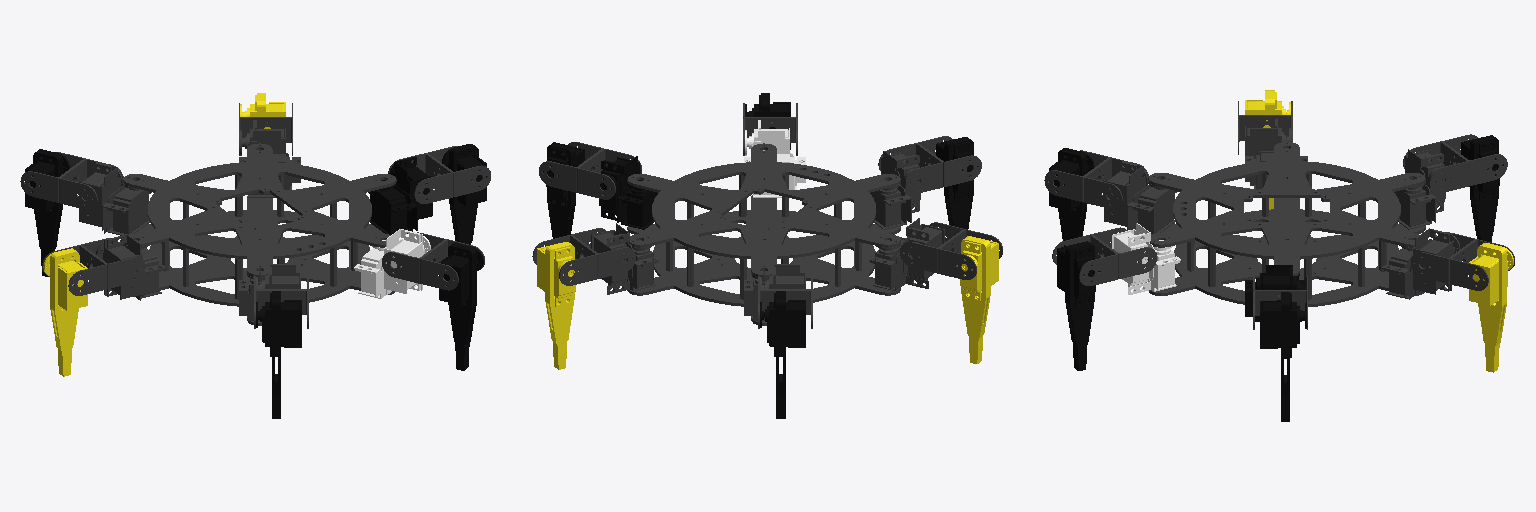
--- Render facts (derived) ---
The picture shows the robot from 3 angles, left to right: view 1: azimuth 30°, elevation 25°; view 2: azimuth 150°, elevation 25°; view 3: azimuth 270°, elevation 25°; orthographic projection.
Model hex_3dof3 with 19 links and 18 joints (18 revolute), rooted at base_link, posed every joint at zero.
Links seen in each view (by area): view 1: base_link, Pata1_Link1, Pata3_Link3, Pata6_Link3, Pata4_Link1, Pata5_Link3, Pata6_Link1, Pata1_Link2, Pata4_Link2, Pata6_Link2, Pata3_Link2, Pata1_Link3 (+7 smaller); view 2: base_link, Pata2_Link3, Pata3_Link3, Pata1_Link3, Pata5_Link2, Pata4_Link1, Pata4_Link2, Pata2_Link2, Pata3_Link2, Pata3_Link1, Pata5_Link1, Pata2_Link1 (+7 smaller); view 3: base_link, Pata5_Link1, Pata2_Link3, Pata6_Link3, Pata4_Link3, Pata1_Link2, Pata6_Link2, Pata2_Link1, Pata5_Link2, Pata1_Link1, Pata2_Link2, Pata6_Link1 (+7 smaller).
Boxes of the visible links, box(x1,y1,x2,y2) form: base_link: box(123, 143, 396, 325); Pata1_Link1: box(79, 162, 151, 235); Pata3_Link3: box(43, 248, 87, 376); Pata6_Link3: box(439, 243, 483, 370); Pata4_Link1: box(368, 156, 432, 234); Pata5_Link3: box(256, 291, 301, 418); Pata6_Link1: box(354, 229, 430, 298); Pata1_Link2: box(20, 152, 123, 209); Pata4_Link2: box(388, 146, 490, 203); Pata6_Link2: box(382, 232, 484, 290); Pata3_Link2: box(42, 238, 145, 295); Pata1_Link3: box(25, 149, 69, 276); base_link: box(627, 143, 900, 325); Pata2_Link3: box(537, 242, 578, 369); Pata3_Link3: box(957, 236, 998, 363); Pata1_Link3: box(760, 291, 805, 418); Pata5_Link2: box(878, 136, 981, 193); Pata4_Link1: box(595, 156, 657, 229); Pata4_Link2: box(539, 142, 641, 199); Pata2_Link2: box(532, 228, 635, 285); Pata3_Link2: box(900, 222, 1002, 279); Pata3_Link1: box(869, 218, 944, 290); Pata5_Link1: box(870, 151, 924, 229); Pata2_Link1: box(591, 223, 659, 294); base_link: box(1148, 142, 1425, 306); Pata5_Link1: box(1104, 161, 1177, 235); Pata2_Link3: box(1469, 243, 1513, 372); Pata6_Link3: box(1057, 241, 1099, 370); Pata4_Link3: box(1260, 292, 1306, 421); Pata1_Link2: box(1403, 134, 1507, 192); Pata6_Link2: box(1052, 227, 1156, 285); Pata2_Link1: box(1382, 228, 1459, 299); Pata5_Link2: box(1044, 150, 1148, 208); Pata1_Link1: box(1394, 149, 1449, 229); Pata2_Link2: box(1410, 232, 1514, 290); Pata6_Link1: box(1112, 223, 1180, 294).
Bounding box of the posed robot: 0.4813 × 0.4492 × 0.13 m (x, y, z).
19 mesh visuals loaded from 19 distinct referenced files (19 binary STL).

The robot description file, URDF, robot "hex_3dof3":
<robot
  name="hex_3dof3">
  <link
    name="base_link">
    <inertial>
      <origin
        xyz="-1.64206023475073E-08 0.000123630818338306 0.0246798703986125"
        rpy="0 0 0" />
      <mass
        value="0.26521497951128" />
      <inertia
        ixx="0.00128880223466245"
        ixy="9.4403405586295E-10"
        ixz="-1.14637829642888E-10"
        iyy="0.00129590987287225"
        iyz="8.6310894060199E-07"
        izz="0.00226088647094822" />
    </inertial>
    <visual>
      <origin
        xyz="0 0 0"
        rpy="0 0 0" />
      <geometry>
        <mesh
          filename="package://meshes/base_link.STL" />
      </geometry>
      <material
        name="">
        <color
          rgba="0.294117647058824 0.294117647058824 0.294117647058824 1" />
      </material>
    </visual>
    <collision>
      <origin
        xyz="0 0 0"
        rpy="0 0 0" />
      <geometry>
        <mesh
          filename="package://meshes/base_link.STL" />
      </geometry>
    </collision>
  </link>
  <link
    name="Pata1_Link1">
    <inertial>
      <origin
        xyz="-0.0147023365508669 0.0147320000003078 -0.0219667365508234"
        rpy="0 0 0" />
      <mass
        value="0.0978490661101912" />
      <inertia
        ixx="3.90311715487353E-05"
        ixy="-7.3451350074464E-06"
        ixz="-2.11444037248737E-06"
        iyy="3.2542534708457E-05"
        iyz="7.34513500825979E-06"
        izz="3.90311715486204E-05" />
    </inertial>
    <visual>
      <origin
        xyz="0 0 0"
        rpy="0 0 0" />
      <geometry>
        <mesh
          filename="package://meshes/Pata1_Link1.STL" />
      </geometry>
      <material
        name="">
        <color
          rgba="0.294117647058824 0.294117647058824 0.294117647058824 1" />
      </material>
    </visual>
    <collision>
      <origin
        xyz="0 0 0"
        rpy="0 0 0" />
      <geometry>
        <mesh
          filename="package://meshes/Pata1_Link1.STL" />
      </geometry>
    </collision>
  </link>
  <joint
    name="Pata1_Motor1"
    type="revolute">
    <origin
      xyz="-0.069155 0.11974 0.052603"
      rpy="-1.5704E-15 1.1888E-15 0.52373" />
    <parent
      link="base_link" />
    <child
      link="Pata1_Link1" />
    <axis
      xyz="0 0 1" />
    <limit
      effort="0"
      velocity="0" />
  </joint>
  <link
    name="Pata1_Link2">
    <inertial>
      <origin
        xyz="-0.0294639999999996 -5.48172618408671E-16 0.0263369972586891"
        rpy="0 0 0" />
      <mass
        value="0.0134335530937499" />
      <inertia
        ixx="7.28667975286697E-06"
        ixy="9.43949694901604E-20"
        ixz="1.71524171818996E-20"
        iyy="1.07187767306611E-05"
        iyz="-9.64255433388266E-22"
        izz="5.00969243766273E-06" />
    </inertial>
    <visual>
      <origin
        xyz="0 0 0"
        rpy="0 0 0" />
      <geometry>
        <mesh
          filename="package://meshes/Pata1_Link2.STL" />
      </geometry>
      <material
        name="">
        <color
          rgba="0.294117647058824 0.294117647058824 0.294117647058824 1" />
      </material>
    </visual>
    <collision>
      <origin
        xyz="0 0 0"
        rpy="0 0 0" />
      <geometry>
        <mesh
          filename="package://meshes/Pata1_Link2.STL" />
      </geometry>
    </collision>
  </link>
  <joint
    name="Pata1_Motor2"
    type="revolute">
    <origin
      xyz="0.005564 0.029464 -0.0072644"
      rpy="1.5708 2.8061E-14 -1.5708" />
    <parent
      link="Pata1_Link1" />
    <child
      link="Pata1_Link2" />
    <axis
      xyz="0 0 1" />
    <limit
      effort="0"
      velocity="0" />
  </joint>
  <link
    name="Pata1_Link3">
    <inertial>
      <origin
        xyz="7.62534067935139E-05 -0.0178927767861349 -0.0254199334896364"
        rpy="0 0 0" />
      <mass
        value="0.0678527630710707" />
      <inertia
        ixx="5.21475503641025E-05"
        ixy="-1.05142217153954E-07"
        ixz="7.99547359234005E-09"
        iyy="9.73676724364494E-06"
        iyz="-1.7601264755518E-06"
        izz="4.79198001430386E-05" />
    </inertial>
    <visual>
      <origin
        xyz="0 0 0"
        rpy="0 0 0" />
      <geometry>
        <mesh
          filename="package://meshes/Pata1_Link3.STL" />
      </geometry>
      <material
        name="">
        <color
          rgba="0.0980392156862745 0.0980392156862745 0.0980392156862745 1" />
      </material>
    </visual>
    <collision>
      <origin
        xyz="0 0 0"
        rpy="0 0 0" />
      <geometry>
        <mesh
          filename="package://meshes/Pata1_Link3.STL" />
      </geometry>
    </collision>
  </link>
  <joint
    name="Pata1_Motor3"
    type="revolute">
    <origin
      xyz="-0.058928 0 0"
      rpy="-3.1416 -8.7153E-15 -3.1416" />
    <parent
      link="Pata1_Link2" />
    <child
      link="Pata1_Link3" />
    <axis
      xyz="0 0 1" />
    <limit
      effort="0"
      velocity="0" />
  </joint>
  <link
    name="Pata2_Link1">
    <inertial>
      <origin
        xyz="0.0143015047173041 -0.00814374734476582 -0.0219667365508186"
        rpy="0 0 0" />
      <mass
        value="0.0978490661101912" />
      <inertia
        ixx="2.97794186801701E-05"
        ixy="2.23879464219151E-06"
        ixz="7.43387412102741E-06"
        iyy="3.93090690513093E-05"
        iyz="1.37168712799058E-06"
        izz="3.654595302288E-05" />
    </inertial>
    <visual>
      <origin
        xyz="0 0 0"
        rpy="0 0 0" />
      <geometry>
        <mesh
          filename="package://meshes/Pata2_Link1.STL" />
      </geometry>
      <material
        name="">
        <color
          rgba="0.294117647058824 0.294117647058824 0.294117647058824 1" />
      </material>
    </visual>
    <collision>
      <origin
        xyz="0 0 0"
        rpy="0 0 0" />
      <geometry>
        <mesh
          filename="package://meshes/Pata2_Link1.STL" />
      </geometry>
    </collision>
  </link>
  <joint
    name="Pata2_Motor1"
    type="revolute">
    <origin
      xyz="0.069123 0.11976 0.052603"
      rpy="-4.9765E-18 1.145E-15 1.1029" />
    <parent
      link="base_link" />
    <child
      link="Pata2_Link1" />
    <axis
      xyz="0 0 1" />
    <limit
      effort="0"
      velocity="0" />
  </joint>
  <link
    name="Pata2_Link2">
    <inertial>
      <origin
        xyz="-0.0294640000000002 -4.85722573273506E-17 -0.0262630027413116"
        rpy="0 0 0" />
      <mass
        value="0.0134335530937499" />
      <inertia
        ixx="7.28667975286697E-06"
        ixy="-1.28025298899783E-20"
        ixz="-4.2351647362715E-22"
        iyy="1.07187767306611E-05"
        iyz="8.89808379051447E-22"
        izz="5.00969243766275E-06" />
    </inertial>
    <visual>
      <origin
        xyz="0 0 0"
        rpy="0 0 0" />
      <geometry>
        <mesh
          filename="package://meshes/Pata2_Link2.STL" />
      </geometry>
      <material
        name="">
        <color
          rgba="0.294117647058824 0.294117647058824 0.294117647058824 1" />
      </material>
    </visual>
    <collision>
      <origin
        xyz="0 0 0"
        rpy="0 0 0" />
      <geometry>
        <mesh
          filename="package://meshes/Pata2_Link2.STL" />
      </geometry>
    </collision>
  </link>
  <joint
    name="Pata2_Motor2"
    type="revolute">
    <origin
      xyz="0.030546 0.018627 -0.0072644"
      rpy="1.5708 -2.1498E-15 3.086" />
    <parent
      link="Pata2_Link1" />
    <child
      link="Pata2_Link2" />
    <axis
      xyz="0 0 1" />
    <limit
      effort="0"
      velocity="0" />
  </joint>
  <link
    name="Pata2_Link3">
    <inertial>
      <origin
        xyz="7.62534067932086E-05 -0.0178927767861277 0.0254199334896364"
        rpy="0 0 0" />
      <mass
        value="0.0678527630710707" />
      <inertia
        ixx="5.21475503641191E-05"
        ixy="-1.04125809135677E-07"
        ixz="-7.99547359230278E-09"
        iyy="9.73676724364494E-06"
        iyz="1.76012647554368E-06"
        izz="4.79198001430553E-05" />
    </inertial>
    <visual>
      <origin
        xyz="0 0 0"
        rpy="0 0 0" />
      <geometry>
        <mesh
          filename="package://meshes/Pata2_Link3.STL" />
      </geometry>
      <material
        name="">
        <color
          rgba="1 0.933333333333333 0.133333333333333 1" />
      </material>
    </visual>
    <collision>
      <origin
        xyz="0 0 0"
        rpy="0 0 0" />
      <geometry>
        <mesh
          filename="package://meshes/Pata2_Link3.STL" />
      </geometry>
    </collision>
  </link>
  <joint
    name="Pata2_Motor3"
    type="revolute">
    <origin
      xyz="-0.058928 0 0"
      rpy="-3.1416 4.4409E-16 3.1416" />
    <parent
      link="Pata2_Link2" />
    <child
      link="Pata2_Link3" />
    <axis
      xyz="0 0 1" />
    <limit
      effort="0"
      velocity="0" />
  </joint>
  <link
    name="Pata3_Link1">
    <inertial>
      <origin
        xyz="-0.0147023365511221 0.014732 -0.0219667365511221"
        rpy="0 0 0" />
      <mass
        value="0.0978490661081873" />
      <inertia
        ixx="3.90311715478484E-05"
        ixy="-7.34513500782051E-06"
        ixz="-2.11444037285162E-06"
        iyy="3.25425347077116E-05"
        iyz="7.34513500782051E-06"
        izz="3.90311715478484E-05" />
    </inertial>
    <visual>
      <origin
        xyz="0 0 0"
        rpy="0 0 0" />
      <geometry>
        <mesh
          filename="package://meshes/Pata3_Link1.STL" />
      </geometry>
      <material
        name="">
        <color
          rgba="0.294117647058824 0.294117647058824 0.294117647058824 1" />
      </material>
    </visual>
    <collision>
      <origin
        xyz="0 0 0"
        rpy="0 0 0" />
      <geometry>
        <mesh
          filename="package://meshes/Pata3_Link1.STL" />
      </geometry>
    </collision>
  </link>
  <joint
    name="Pata3_Motor1"
    type="revolute">
    <origin
      xyz="-0.13828 -1.8366E-05 0.052603"
      rpy="4.8859E-16 -4.9955E-16 1.5709" />
    <parent
      link="base_link" />
    <child
      link="Pata3_Link1" />
    <axis
      xyz="0 0 1" />
    <limit
      effort="0"
      velocity="0" />
  </joint>
  <link
    name="Pata3_Link2">
    <inertial>
      <origin
        xyz="-0.0294639999999998 2.08166817117217E-16 0.0263369972586889"
        rpy="0 0 0" />
      <mass
        value="0.0134335530937499" />
      <inertia
        ixx="7.28667975286698E-06"
        ixy="-2.80432014892978E-21"
        ixz="5.10784028251495E-22"
        iyy="1.07187767306611E-05"
        iyz="-4.54911747913286E-21"
        izz="5.00969243766273E-06" />
    </inertial>
    <visual>
      <origin
        xyz="0 0 0"
        rpy="0 0 0" />
      <geometry>
        <mesh
          filename="package://meshes/Pata3_Link2.STL" />
      </geometry>
      <material
        name="">
        <color
          rgba="0.294117647058824 0.294117647058824 0.294117647058824 1" />
      </material>
    </visual>
    <collision>
      <origin
        xyz="0 0 0"
        rpy="0 0 0" />
      <geometry>
        <mesh
          filename="package://meshes/Pata3_Link2.STL" />
      </geometry>
    </collision>
  </link>
  <joint
    name="Pata3_Motor2"
    type="revolute">
    <origin
      xyz="0.005564 0.029464 -0.0072644"
      rpy="1.5708 -4.8859E-16 -1.5708" />
    <parent
      link="Pata3_Link1" />
    <child
      link="Pata3_Link2" />
    <axis
      xyz="0 0 1" />
    <limit
      effort="0"
      velocity="0" />
  </joint>
  <link
    name="Pata3_Link3">
    <inertial>
      <origin
        xyz="-7.62534067867693E-05 0.0178927767866599 -0.0254199334901566"
        rpy="0 0 0" />
      <mass
        value="0.0678527630690668" />
      <inertia
        ixx="5.21475503628396E-05"
        ixy="-1.05142217161841E-07"
        ixz="-7.99547358557878E-09"
        iyy="9.73676724301517E-06"
        iyz="1.76012647617929E-06"
        izz="4.79198001423975E-05" />
    </inertial>
    <visual>
      <origin
        xyz="0 0 0"
        rpy="0 0 0" />
      <geometry>
        <mesh
          filename="package://meshes/Pata3_Link3.STL" />
      </geometry>
      <material
        name="">
        <color
          rgba="1 0.933333333333333 0.133333333333333 1" />
      </material>
    </visual>
    <collision>
      <origin
        xyz="0 0 0"
        rpy="0 0 0" />
      <geometry>
        <mesh
          filename="package://meshes/Pata3_Link3.STL" />
      </geometry>
    </collision>
  </link>
  <joint
    name="Pata3_Motor3"
    type="revolute">
    <origin
      xyz="-0.058928 0 0"
      rpy="-3.1416 1.583E-15 0" />
    <parent
      link="Pata3_Link2" />
    <child
      link="Pata3_Link3" />
    <axis
      xyz="0 0 1" />
    <limit
      effort="0"
      velocity="0" />
  </joint>
  <link
    name="Pata4_Link1">
    <inertial>
      <origin
        xyz="0.014732 -0.00733633655112207 -0.0219667365511221"
        rpy="0 0 0" />
      <mass
        value="0.0978490661081873" />
      <inertia
        ixx="3.00573161814946E-05"
        ixy="2.75376841130566E-06"
        ixz="7.3461514158383E-06"
        iyy="3.90311715478483E-05"
        iyz="1.78271405202647E-06"
        izz="3.65459530216313E-05" />
    </inertial>
    <visual>
      <origin
        xyz="0 0 0"
        rpy="0 0 0" />
      <geometry>
        <mesh
          filename="package://meshes/Pata4_Link1.STL" />
      </geometry>
      <material
        name="">
        <color
          rgba="0.0980392156862745 0.0980392156862745 0.0980392156862745 1" />
      </material>
    </visual>
    <collision>
      <origin
        xyz="0 0 0"
        rpy="0 0 0" />
      <geometry>
        <mesh
          filename="package://meshes/Pata4_Link1.STL" />
      </geometry>
    </collision>
  </link>
  <joint
    name="Pata4_Motor1"
    type="revolute">
    <origin
      xyz="0.13828 1.8366E-05 0.052603"
      rpy="-3.053E-17 1.573E-15 0.00013282" />
    <parent
      link="base_link" />
    <child
      link="Pata4_Link1" />
    <axis
      xyz="0 0 1" />
    <limit
      effort="0"
      velocity="0" />
  </joint>
  <link
    name="Pata4_Link2">
    <inertial>
      <origin
        xyz="-0.0294640000000002 -7.63278329429795E-17 -0.0262630027413109"
        rpy="0 0 0" />
      <mass
        value="0.0134335530937499" />
      <inertia
        ixx="7.28667975286699E-06"
        ixy="3.25554331429475E-21"
        ixz="6.85452750964761E-21"
        iyy="1.07187767306611E-05"
        iyz="1.73457811646511E-20"
        izz="5.00969243766274E-06" />
    </inertial>
    <visual>
      <origin
        xyz="0 0 0"
        rpy="0 0 0" />
      <geometry>
        <mesh
          filename="package://meshes/Pata4_Link2.STL" />
      </geometry>
      <material
        name="">
        <color
          rgba="0.294117647058824 0.294117647058824 0.294117647058824 1" />
      </material>
    </visual>
    <collision>
      <origin
        xyz="0 0 0"
        rpy="0 0 0" />
      <geometry>
        <mesh
          filename="package://meshes/Pata4_Link2.STL" />
      </geometry>
    </collision>
  </link>
  <joint
    name="Pata4_Motor2"
    type="revolute">
    <origin
      xyz="0.029464 0.020296 -0.0072644"
      rpy="1.5708 1.573E-15 3.1416" />
    <parent
      link="Pata4_Link1" />
    <child
      link="Pata4_Link2" />
    <axis
      xyz="0 0 1" />
    <limit
      effort="0"
      velocity="0" />
  </joint>
  <link
    name="Pata4_Link3">
    <inertial>
      <origin
        xyz="7.6253406786464E-05 -0.0178927767866595 0.0254199334901565"
        rpy="0 0 0" />
      <mass
        value="0.0678527630690668" />
      <inertia
        ixx="5.21475503628396E-05"
        ixy="-1.04125809143983E-07"
        ixz="-7.99547358555702E-09"
        iyy="9.73676724301514E-06"
        iyz="1.76012647617919E-06"
        izz="4.79198001423975E-05" />
    </inertial>
    <visual>
      <origin
        xyz="0 0 0"
        rpy="0 0 0" />
      <geometry>
        <mesh
          filename="package://meshes/Pata4_Link3.STL" />
      </geometry>
      <material
        name="">
        <color
          rgba="0.0980392156862745 0.0980392156862745 0.0980392156862745 1" />
      </material>
    </visual>
    <collision>
      <origin
        xyz="0 0 0"
        rpy="0 0 0" />
      <geometry>
        <mesh
          filename="package://meshes/Pata4_Link3.STL" />
      </geometry>
    </collision>
  </link>
  <joint
    name="Pata4_Motor3"
    type="revolute">
    <origin
      xyz="-0.058928 0 0"
      rpy="-3.1416 -2.1107E-15 3.1416" />
    <parent
      link="Pata4_Link2" />
    <child
      link="Pata4_Link3" />
    <axis
      xyz="0 0 1" />
    <limit
      effort="0"
      velocity="0" />
  </joint>
  <link
    name="Pata5_Link1">
    <inertial>
      <origin
        xyz="-0.0147023365508669 0.0147320000002955 -0.0219667365508186"
        rpy="0 0 0" />
      <mass
        value="0.0978490661101913" />
      <inertia
        ixx="3.90311715487135E-05"
        ixy="-7.34513500745903E-06"
        ixz="-2.11444037248176E-06"
        iyy="3.25425347084707E-05"
        iyz="7.34513500824886E-06"
        izz="3.90311715485848E-05" />
    </inertial>
    <visual>
      <origin
        xyz="0 0 0"
        rpy="0 0 0" />
      <geometry>
        <mesh
          filename="package://meshes/Pata5_Link1.STL" />
      </geometry>
      <material
        name="">
        <color
          rgba="0.294117647058824 0.294117647058824 0.294117647058824 1" />
      </material>
    </visual>
    <collision>
      <origin
        xyz="0 0 0"
        rpy="0 0 0" />
      <geometry>
        <mesh
          filename="package://meshes/Pata5_Link1.STL" />
      </geometry>
    </collision>
  </link>
  <joint
    name="Pata5_Motor1"
    type="revolute">
    <origin
      xyz="-0.069123 -0.11976 0.052603"
      rpy="-1.3682E-15 8.8242E-17 2.6181" />
    <parent
      link="base_link" />
    <child
      link="Pata5_Link1" />
    <axis
      xyz="0 0 1" />
    <limit
      effort="0"
      velocity="0" />
  </joint>
  <link
    name="Pata5_Link2">
    <inertial>
      <origin
        xyz="-0.0294639999999996 -5.96744875736022E-16 0.0263369972586891"
        rpy="0 0 0" />
      <mass
        value="0.0134335530937499" />
      <inertia
        ixx="7.28667975286696E-06"
        ixy="9.41441414847244E-20"
        ixz="1.48230765769503E-21"
        iyy="1.07187767306611E-05"
        iyz="-1.85012746798404E-21"
        izz="5.00969243766273E-06" />
    </inertial>
    <visual>
      <origin
        xyz="0 0 0"
        rpy="0 0 0" />
      <geometry>
        <mesh
          filename="package://meshes/Pata5_Link2.STL" />
      </geometry>
      <material
        name="">
        <color
          rgba="0.294117647058824 0.294117647058824 0.294117647058824 1" />
      </material>
    </visual>
    <collision>
      <origin
        xyz="0 0 0"
        rpy="0 0 0" />
      <geometry>
        <mesh
          filename="package://meshes/Pata5_Link2.STL" />
      </geometry>
    </collision>
  </link>
  <joint
    name="Pata5_Motor2"
    type="revolute">
    <origin
      xyz="0.005564 0.029464 -0.0072644"
      rpy="1.5708 2.8687E-14 -1.5708" />
    <parent
      link="Pata5_Link1" />
    <child
      link="Pata5_Link2" />
    <axis
      xyz="0 0 1" />
    <limit
      effort="0"
      velocity="0" />
  </joint>
  <link
    name="Pata5_Link3">
    <inertial>
      <origin
        xyz="7.62534067756948E-05 -0.0178927767861281 -0.0254199334896364"
        rpy="0 0 0" />
      <mass
        value="0.0678527630710707" />
      <inertia
        ixx="5.21475503641192E-05"
        ixy="-1.05142217175689E-07"
        ixz="7.99547357343766E-09"
        iyy="9.73676724364513E-06"
        iyz="-1.7601264755438E-06"
        izz="4.79198001430555E-05" />
    </inertial>
    <visual>
      <origin
        xyz="0 0 0"
        rpy="0 0 0" />
      <geometry>
        <mesh
          filename="package://meshes/Pata5_Link3.STL" />
      </geometry>
      <material
        name="">
        <color
          rgba="0.0980392156862745 0.0980392156862745 0.0980392156862745 1" />
      </material>
    </visual>
    <collision>
      <origin
        xyz="0 0 0"
        rpy="0 0 0" />
      <geometry>
        <mesh
          filename="package://meshes/Pata5_Link3.STL" />
      </geometry>
    </collision>
  </link>
  <joint
    name="Pata5_Motor3"
    type="revolute">
    <origin
      xyz="-0.058928 0 0"
      rpy="3.1416 -9.3814E-15 -3.1416" />
    <parent
      link="Pata5_Link2" />
    <child
      link="Pata5_Link3" />
    <axis
      xyz="0 0 1" />
    <limit
      effort="0"
      velocity="0" />
  </joint>
  <link
    name="Pata6_Link1">
    <inertial>
      <origin
        xyz="0.0147320000002955 -0.00733633655071602 -0.0219667365508234"
        rpy="0 0 0" />
      <mass
        value="0.0978490661101911" />
      <inertia
        ixx="3.00573161827165E-05"
        ixy="2.75376841188014E-06"
        ixz="7.34615141626021E-06"
        iyy="3.90311715486996E-05"
        iyz="1.78271405260605E-06"
        izz="3.65459530228443E-05" />
    </inertial>
    <visual>
      <origin
        xyz="0 0 0"
        rpy="0 0 0" />
      <geometry>
        <mesh
          filename="package://meshes/Pata6_Link1.STL" />
      </geometry>
      <material
        name="">
        <color
          rgba="1 1 1 1" />
      </material>
    </visual>
    <collision>
      <origin
        xyz="0 0 0"
        rpy="0 0 0" />
      <geometry>
        <mesh
          filename="package://meshes/Pata6_Link1.STL" />
      </geometry>
    </collision>
  </link>
  <joint
    name="Pata6_Motor1"
    type="revolute">
    <origin
      xyz="0.069155 -0.11974 0.052603"
      rpy="-1.4658E-15 0 -1.0471" />
    <parent
      link="base_link" />
    <child
      link="Pata6_Link1" />
    <axis
      xyz="0 0 1" />
    <limit
      effort="0"
      velocity="0" />
  </joint>
  <link
    name="Pata6_Link2">
    <inertial>
      <origin
        xyz="-0.0294640000000004 4.16333634234434E-16 -0.0262630027413108"
        rpy="0 0 0" />
      <mass
        value="0.0134335530937499" />
      <inertia
        ixx="7.28667975286697E-06"
        ixy="-5.46205312129302E-20"
        ixz="1.63053842346453E-20"
        iyy="1.07187767306611E-05"
        iyz="-1.04197842091747E-20"
        izz="5.00969243766275E-06" />
    </inertial>
    <visual>
      <origin
        xyz="0 0 0"
        rpy="0 0 0" />
      <geometry>
        <mesh
          filename="package://meshes/Pata6_Link2.STL" />
      </geometry>
      <material
        name="">
        <color
          rgba="0.294117647058824 0.294117647058824 0.294117647058824 1" />
      </material>
    </visual>
    <collision>
      <origin
        xyz="0 0 0"
        rpy="0 0 0" />
      <geometry>
        <mesh
          filename="package://meshes/Pata6_Link2.STL" />
      </geometry>
    </collision>
  </link>
  <joint
    name="Pata6_Motor2"
    type="revolute">
    <origin
      xyz="0.029464 0.020296 -0.0072644"
      rpy="1.5708 -1.7384E-14 3.1416" />
    <parent
      link="Pata6_Link1" />
    <child
      link="Pata6_Link2" />
    <axis
      xyz="0 0 1" />
    <limit
      effort="0"
      velocity="0" />
  </joint>
  <link
    name="Pata6_Link3">
    <inertial>
      <origin
        xyz="7.62534067754173E-05 -0.0178927767861346 0.0254199334896364"
        rpy="0 0 0" />
      <mass
        value="0.0678527630710706" />
      <inertia
        ixx="5.21475503641024E-05"
        ixy="-1.04125809157314E-07"
        ixz="-7.99547357341903E-09"
        iyy="9.73676724364509E-06"
        iyz="1.76012647555169E-06"
        izz="4.79198001430387E-05" />
    </inertial>
    <visual>
      <origin
        xyz="0 0 0"
        rpy="0 0 0" />
      <geometry>
        <mesh
          filename="package://meshes/Pata6_Link3.STL" />
      </geometry>
      <material
        name="">
        <color
          rgba="0.0980392156862745 0.0980392156862745 0.0980392156862745 1" />
      </material>
    </visual>
    <collision>
      <origin
        xyz="0 0 0"
        rpy="0 0 0" />
      <geometry>
        <mesh
          filename="package://meshes/Pata6_Link3.STL" />
      </geometry>
    </collision>
  </link>
  <joint
    name="Pata6_Motor3"
    type="revolute">
    <origin
      xyz="-0.058928 0 0"
      rpy="3.1416 -7.0499E-15 3.1416" />
    <parent
      link="Pata6_Link2" />
    <child
      link="Pata6_Link3" />
    <axis
      xyz="0 0 1" />
    <limit
      effort="0"
      velocity="0" />
  </joint>
</robot>
